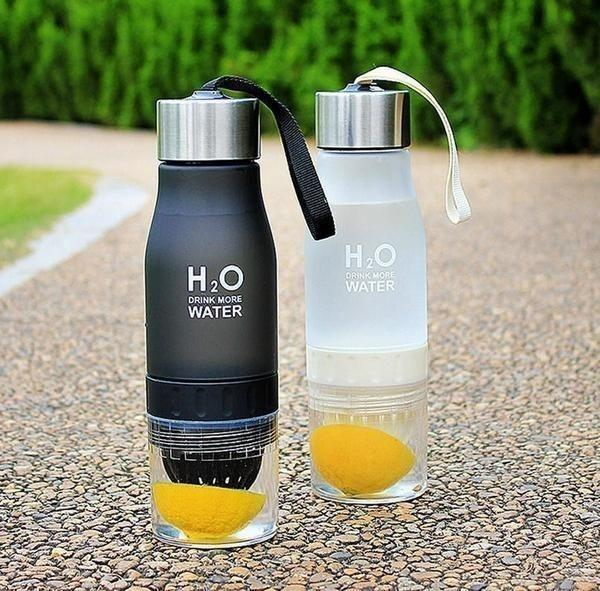gym bottle: (139, 77, 334, 552), (294, 66, 473, 511)
